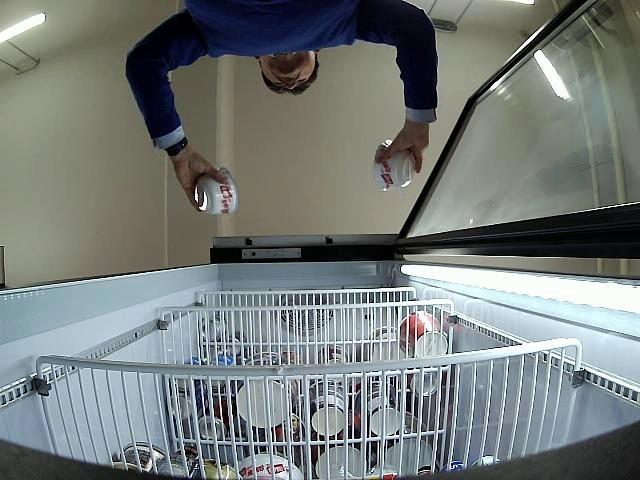09_yukGaeJang: (372, 139, 414, 190), (196, 166, 239, 214)
